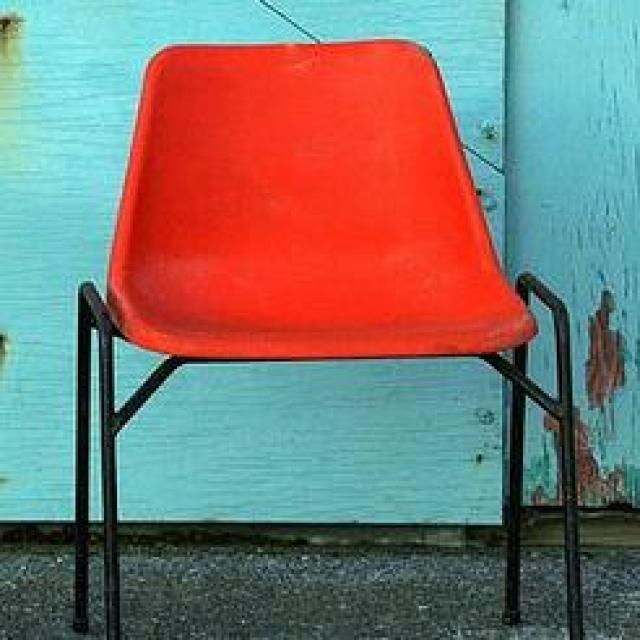chair: (77, 40, 581, 640)
